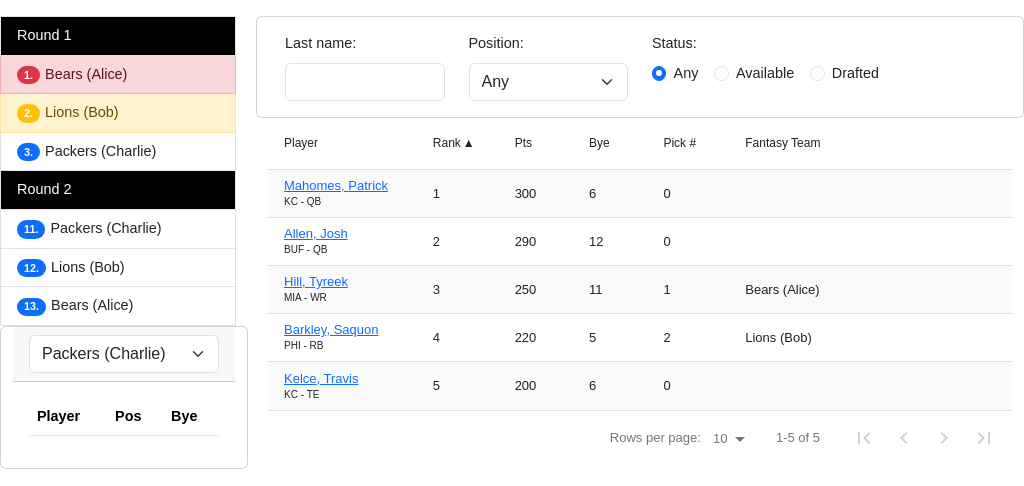
it: Players › filtering › filter by position narrows displayed players
The image size is (1024, 486).
Select "TE" in the dropdown labelled "Position:" at (548, 82), box [468,63,628,101]
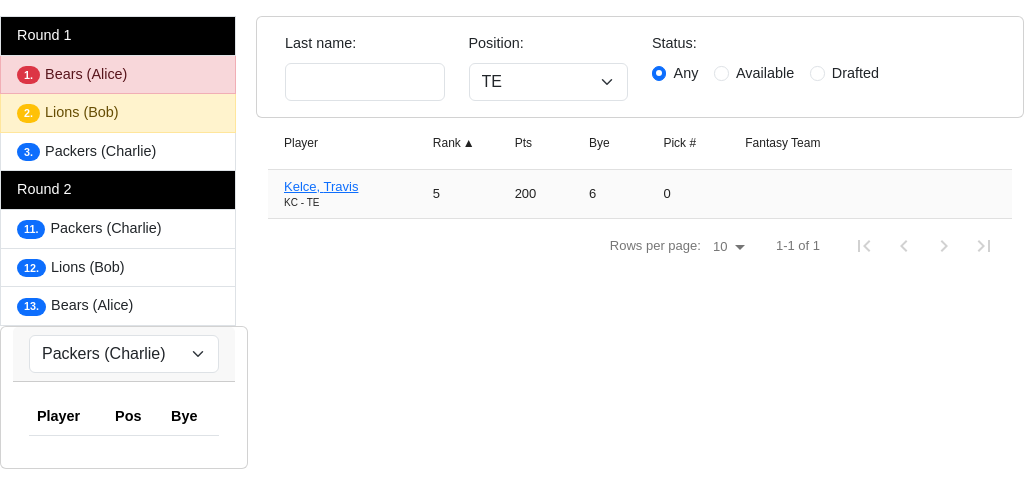
Expected: the link "Kelce, Travis" is shown, [284,179,358,194]
Expected: the link "Mahomes" is gone
